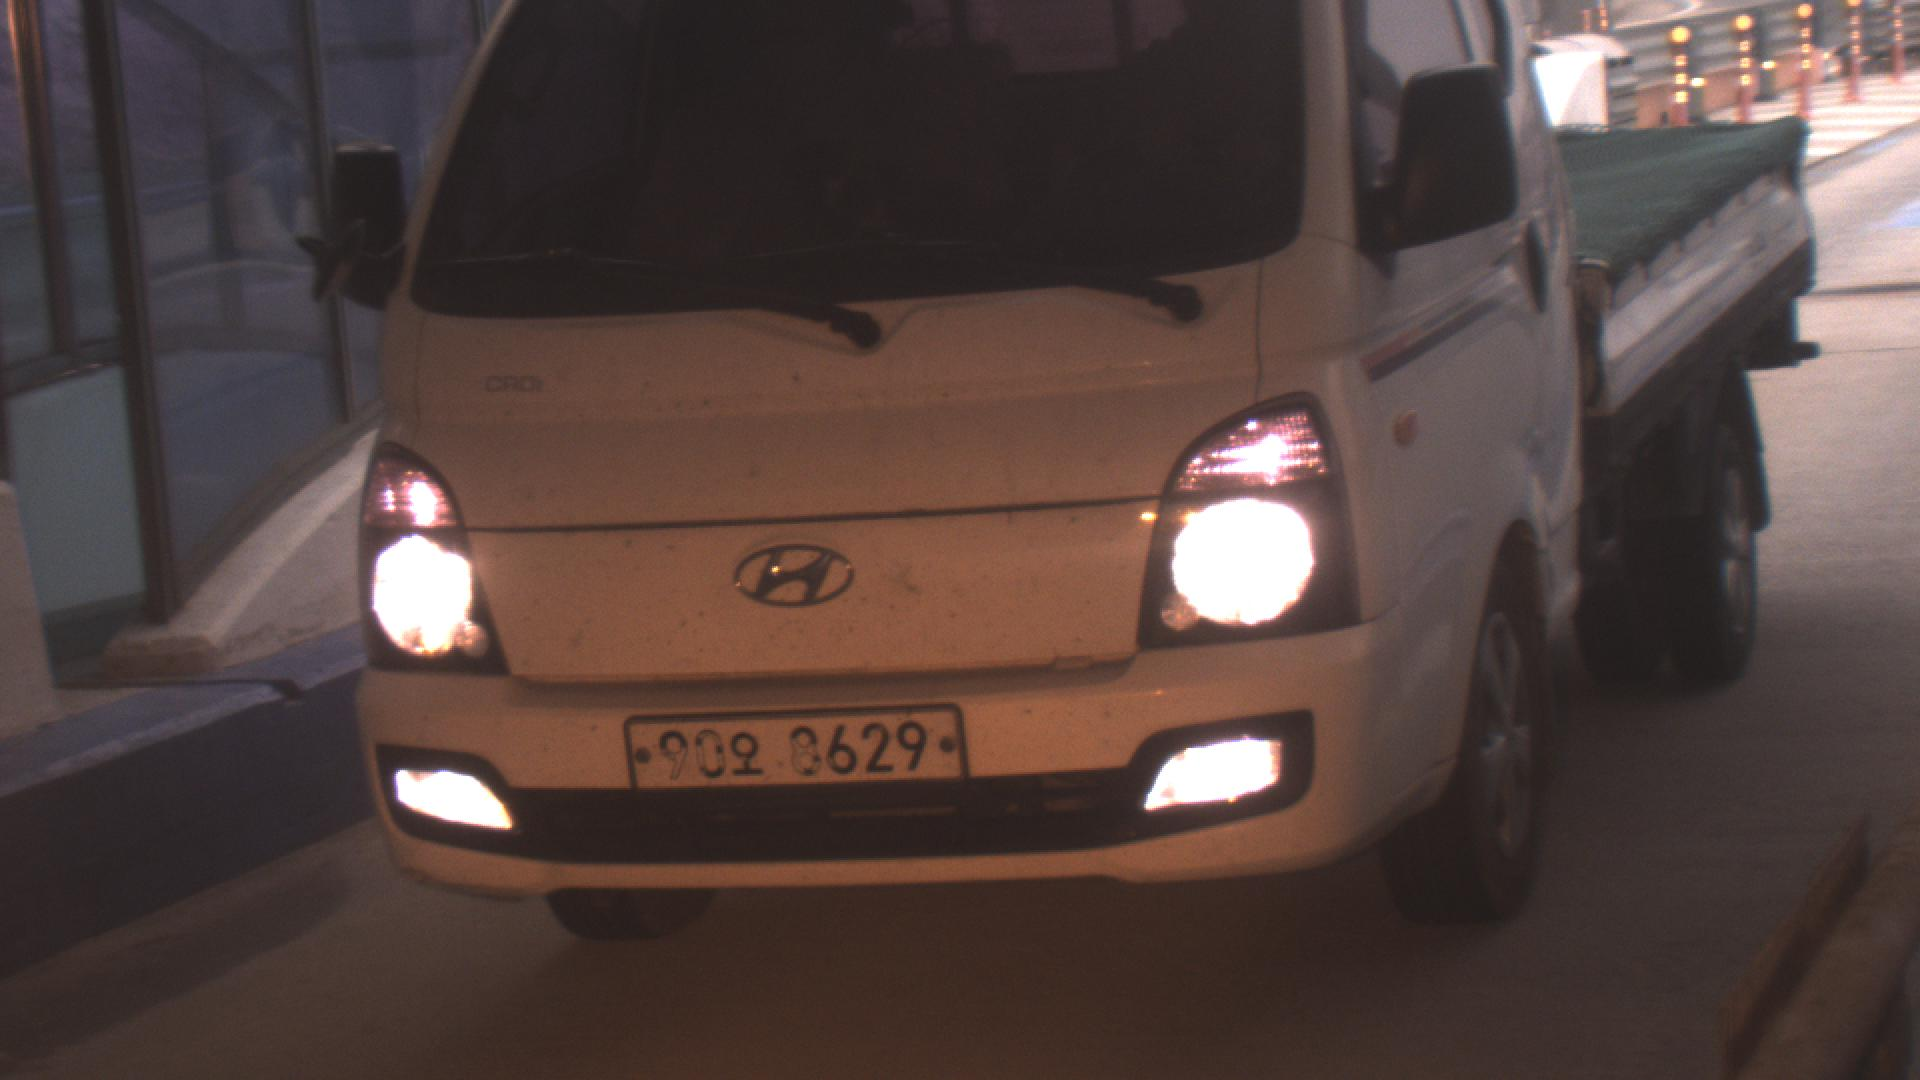car: (315, 1, 1819, 945)
plate: (625, 707, 969, 791)
